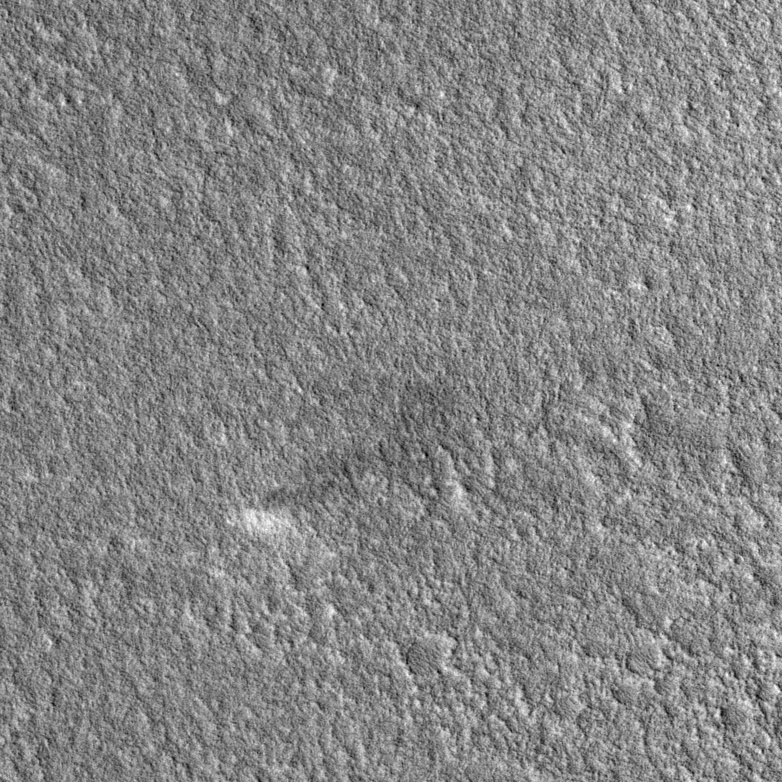dust_devil: (237, 443, 397, 539)
